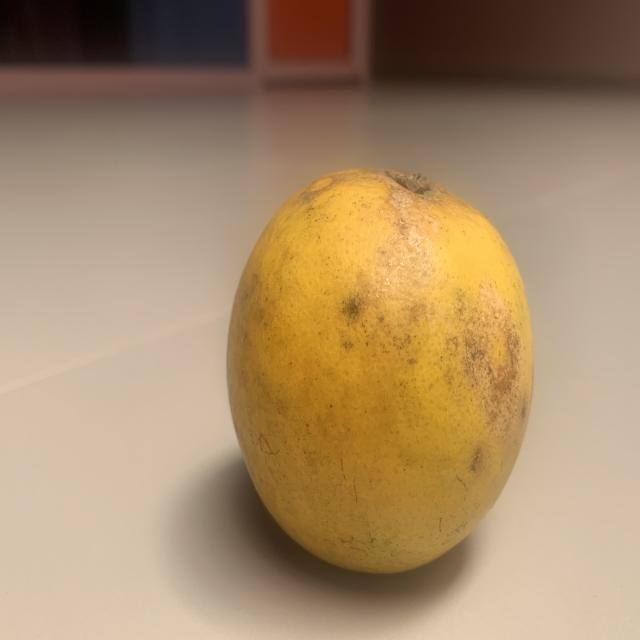agrume: (211, 148, 545, 584)
